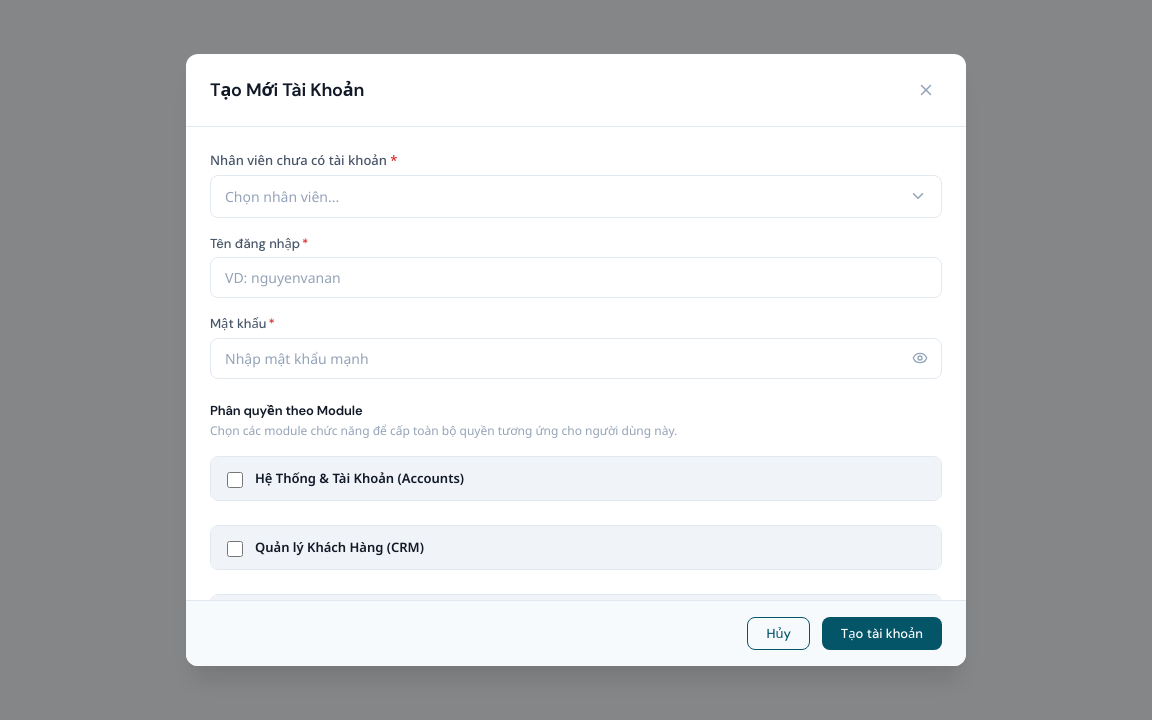
Test: AccountModal › displays form validation error when password is weak
The width and height of the screenshot is (1152, 720).
Open SearchableSelect
Click the dropdown at (576, 196), box [210,174,942,218]
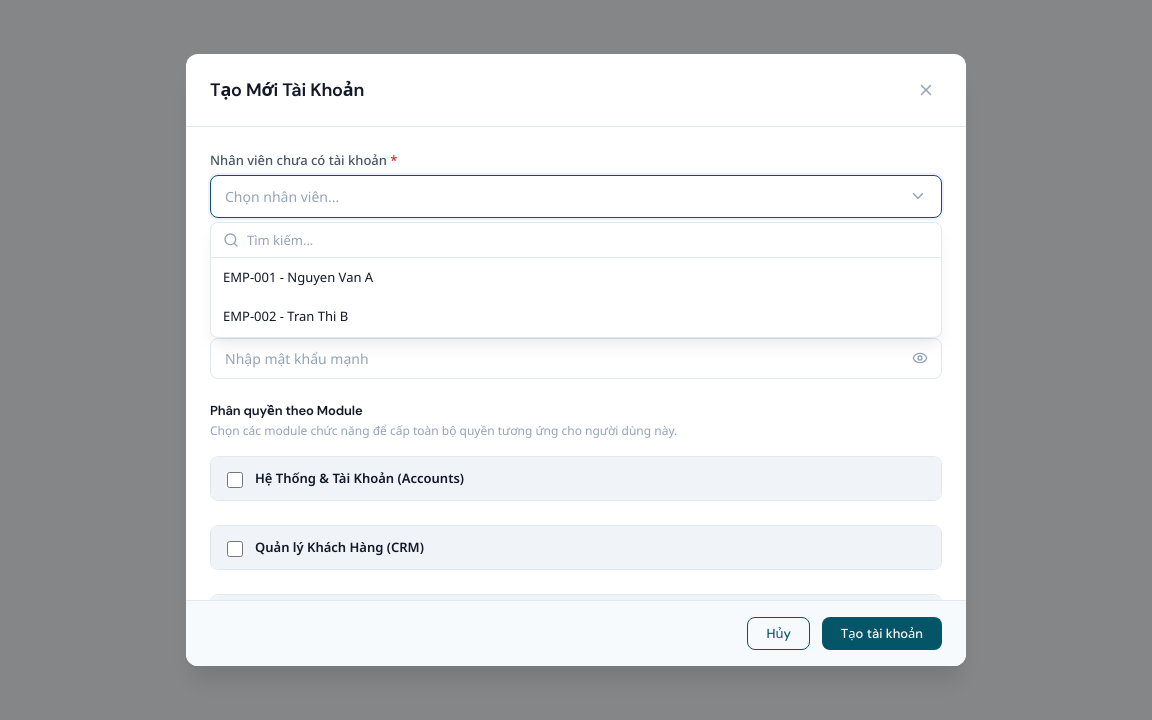
Select option
Click the option "EMP-001 - Nguyen Van A" at (298, 276), box [223,268,373,286]
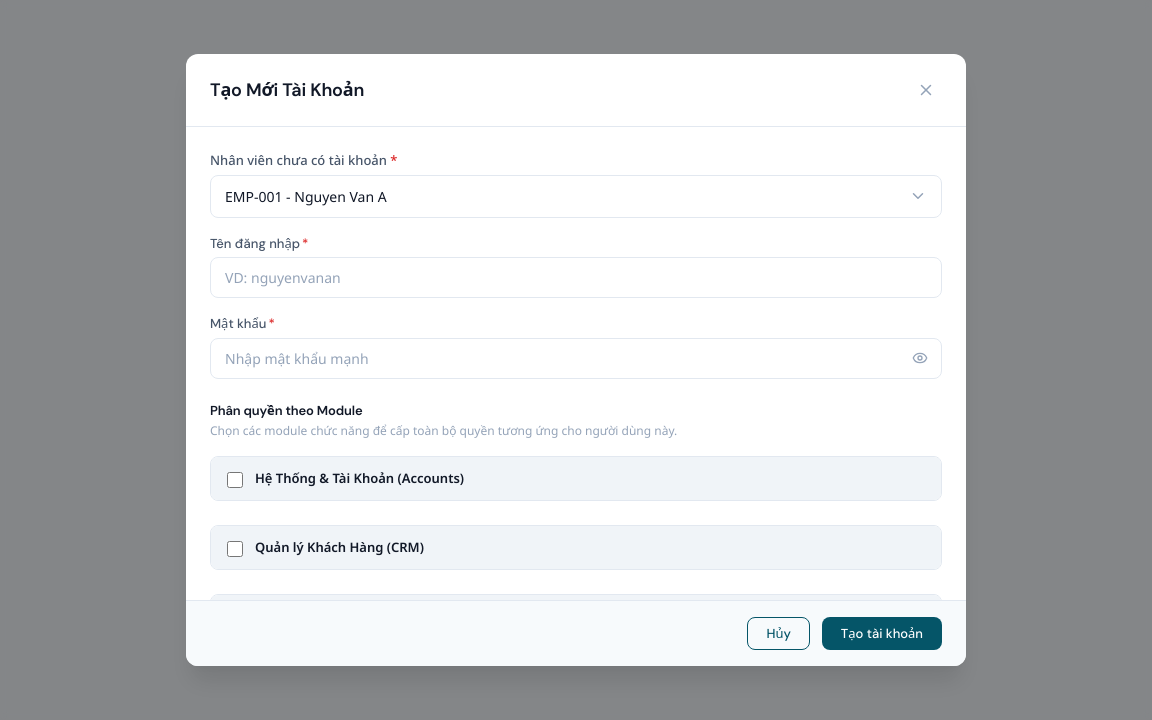
Type "validusername" into the field labelled "Tên đăng nhập*" at (576, 278), box [210,257,942,298]
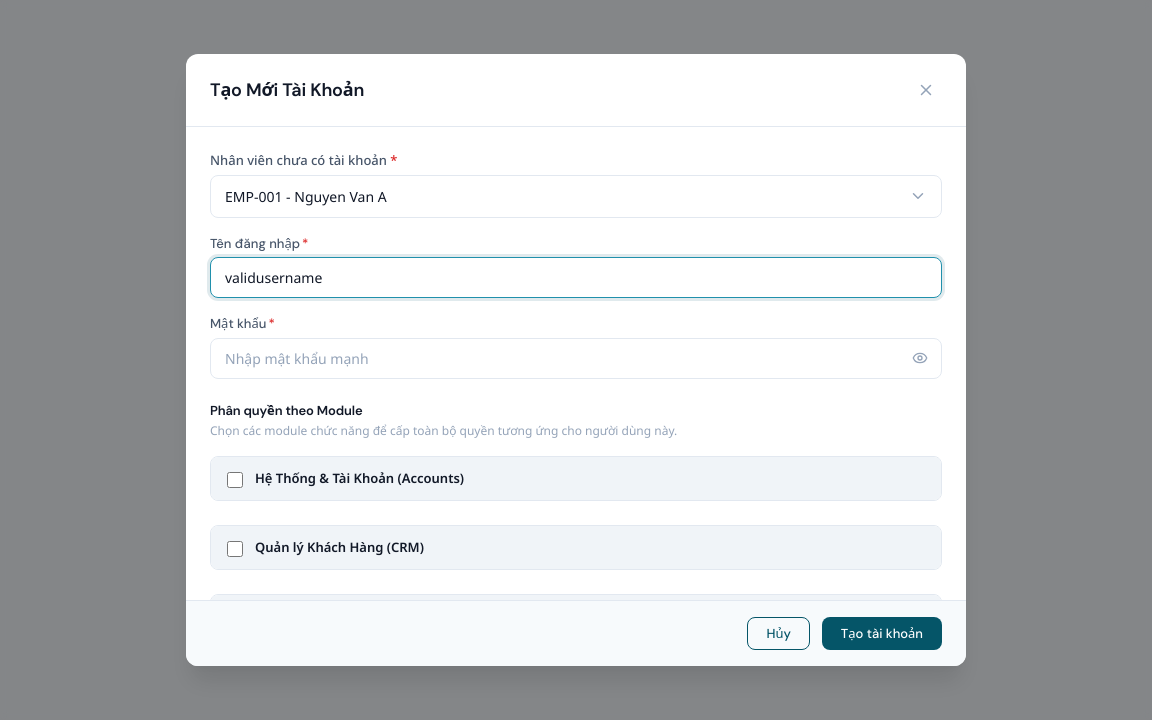
Type "1234" into the password field labelled "Mật khẩu*" at (576, 358), box [210,338,942,378]
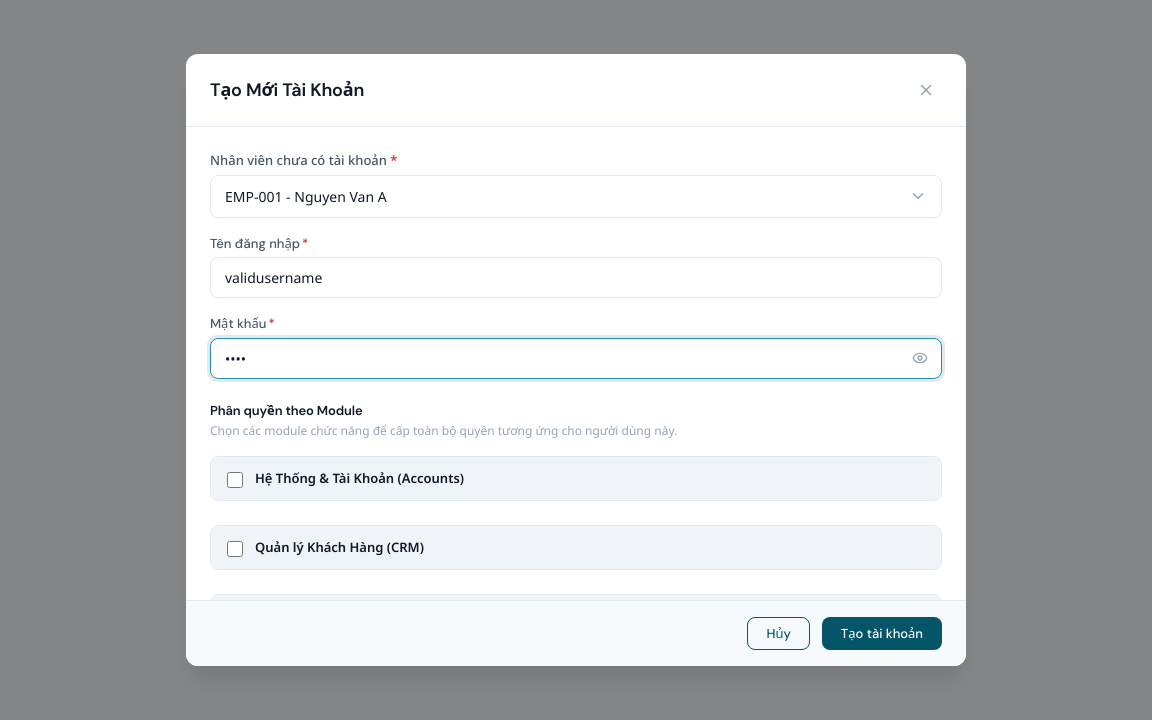
Click the button "Tạo tài khoản" at (882, 634), box [822,617,942,650]
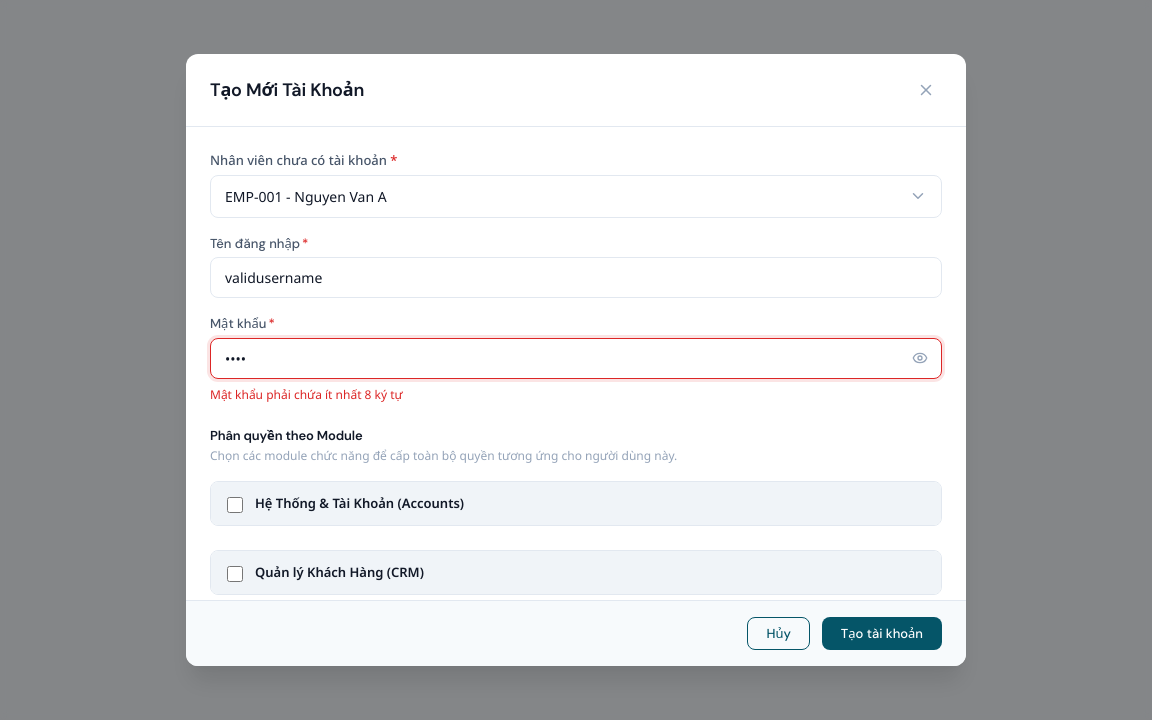
Expected: the text "Mật khẩu phải chứa ít nhất 8 ký tự" is shown, [210,386,403,402]
